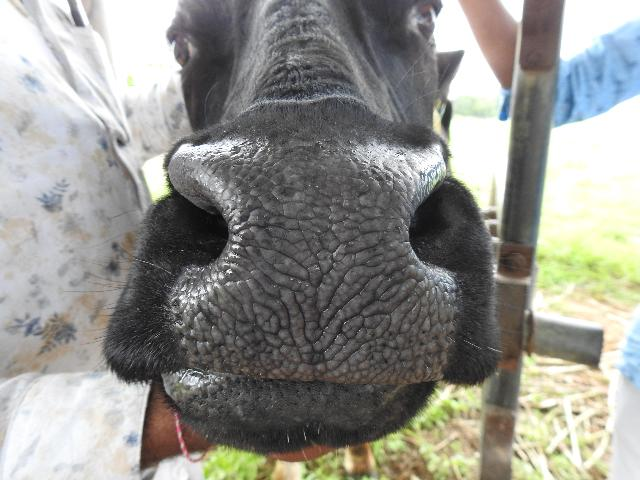Muzzle: (205, 152, 425, 378)
